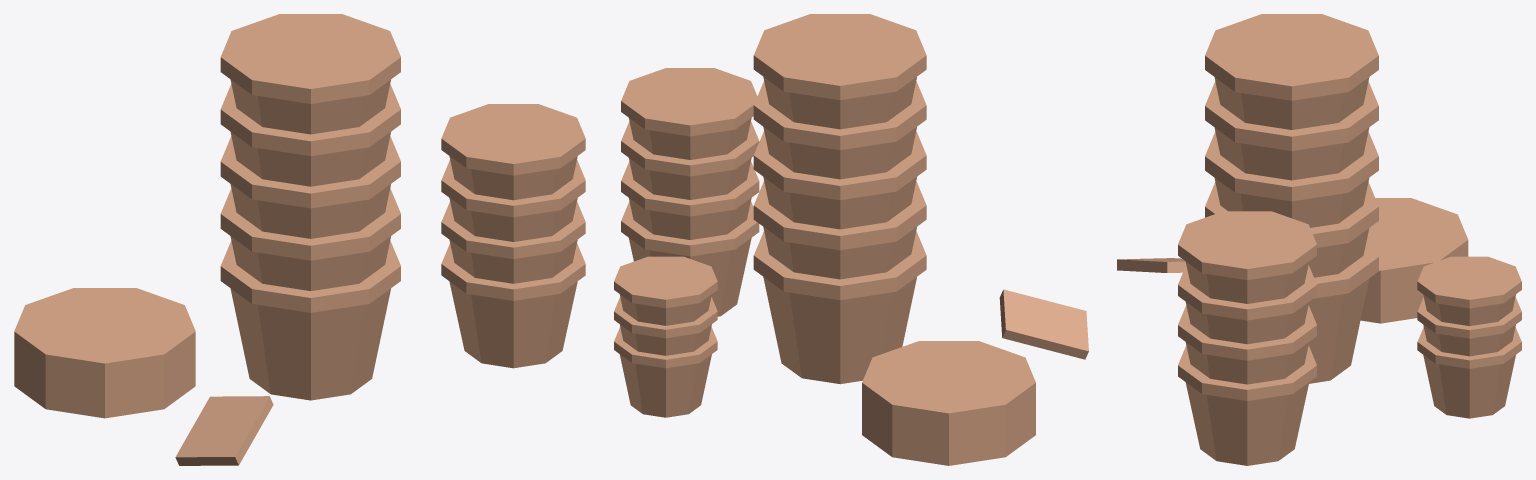
File: botanical-glasshouse-and-palm-house-botanical-glasshou-3f717859.glb
The picture shows the model from 3 angles, left to right: view 1: azimuth 30°, elevation 25°; view 2: azimuth 150°, elevation 25°; view 3: azimuth 270°, elevation 25°; orthographic projection. The views are drawn at different scales.
Parts seen in each view (by area): view 1: botanical-glasshouse-and-palm-house-clay-pot-stack; view 2: botanical-glasshouse-and-palm-house-clay-pot-stack; view 3: botanical-glasshouse-and-palm-house-clay-pot-stack.
Part boxes in pixels (x1=…): botanical-glasshouse-and-palm-house-clay-pot-stack: x1=14, y1=14, x2=585, y2=465; botanical-glasshouse-and-palm-house-clay-pot-stack: x1=614, y1=14, x2=1088, y2=465; botanical-glasshouse-and-palm-house-clay-pot-stack: x1=1117, y1=14, x2=1521, y2=465.
Bounding box in the file's own units: 0.9576 × 0.6201 × 0.7287.
